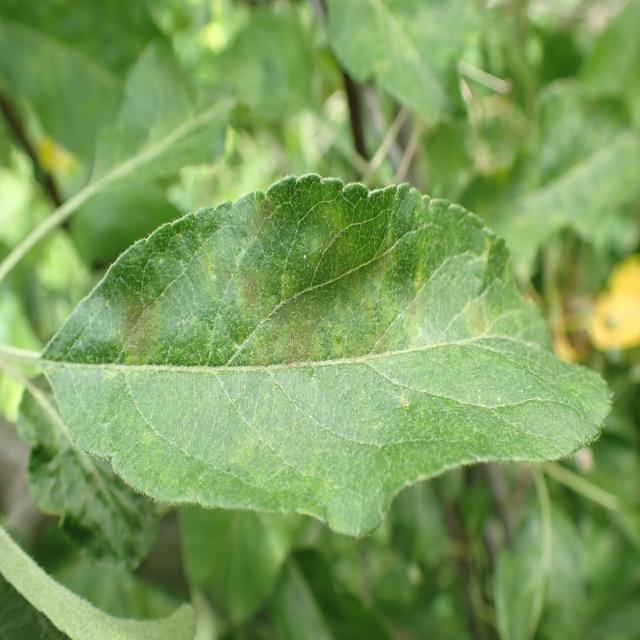scab: (105, 185, 570, 438)
